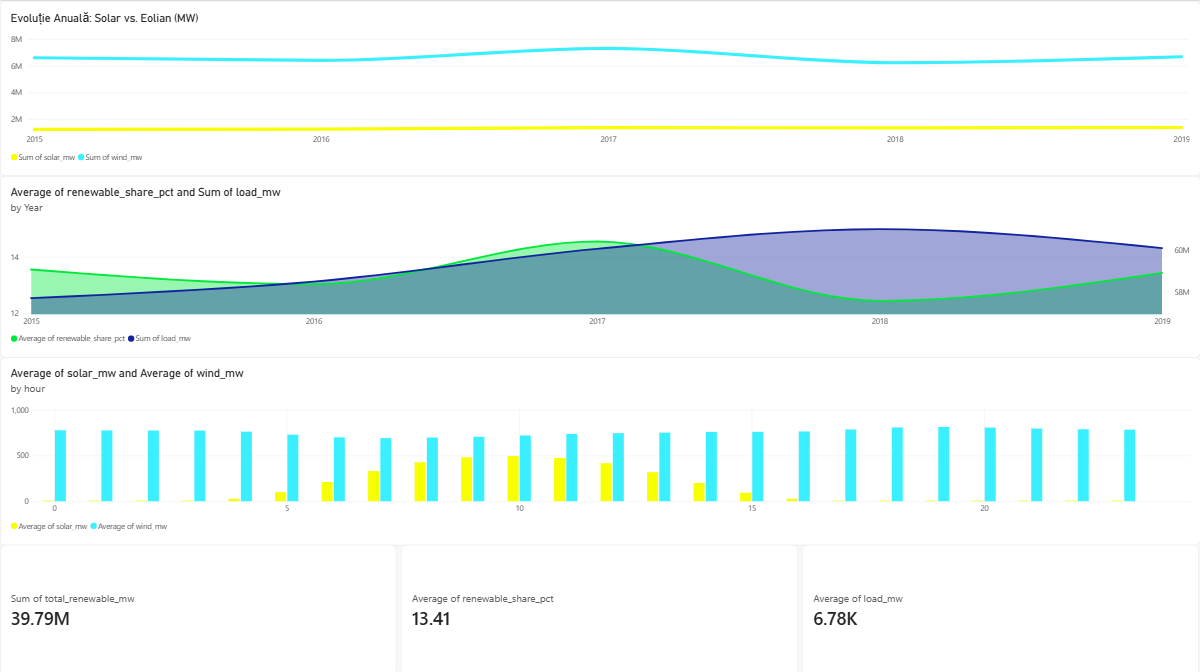

The dashboard page shown, as its layout file describes it:
{"tool":"powerbi","page":{"name":"Page 1","canvas":[1920,1080],"ordinal":0},"visuals":[{"type":"lineChart","title":"Evoluție Anuală: Solar vs. Eolian (MW)","fields":{"Category":["greengrid dim_time.timestamp_utc.Variation.Date Hierarchy.Year","greengrid dim_time.timestamp_utc.Variation.Date Hierarchy.Quarter","greengrid dim_time.timestamp_utc.Variation.Date Hierarchy.Month","greengrid dim_time.timestamp_utc.Variation.Date Hierarchy.Day"],"Y":["Sum(greengrid fact_renewable_generation.solar_mw)","Sum(greengrid fact_renewable_generation.wind_mw)"]},"box":[0,0,1920.4,280.2],"z":0},{"type":"areaChart","fields":{"Category":["greengrid dim_time.timestamp_utc.Variation.Date Hierarchy.Year","greengrid dim_time.timestamp_utc.Variation.Date Hierarchy.Quarter","greengrid dim_time.timestamp_utc.Variation.Date Hierarchy.Month","greengrid dim_time.timestamp_utc.Variation.Date Hierarchy.Day"],"Y":["Avg(greengrid fact_renewable_generation.renewable_share_pct)"],"Y2":["Sum(greengrid fact_renewable_generation.load_mw)"]},"box":[0,280.2,1920.4,290.4],"z":1000},{"type":"clusteredColumnChart","fields":{"Category":["greengrid dim_time.hour"],"Y":["Avg(greengrid fact_renewable_generation.solar_mw)","Avg(greengrid fact_renewable_generation.wind_mw)"]},"box":[0,570.2,1920.4,300.5],"z":2000},{"type":"cardVisual","fields":{"Data":["Sum(greengrid fact_renewable_generation.total_renewable_mw)","Avg(greengrid fact_renewable_generation.renewable_share_pct)","Avg(greengrid fact_renewable_generation.load_mw)"]},"box":[0,870.7,1920.4,209.9],"z":2001}]}

Visuals, with their boxes in screenshot pixels (x1, y1, x2, y2), scaled from the page's 1920x1080 canvas onto the 1200x672 screenshot:
"Evoluție Anuală: Solar vs. Eolian (MW)" lineChart: region(0, 0, 1199, 174)
areaChart - greengrid dim_time.timestamp_utc.Variation.Date Hierarchy.Year x greengrid dim_time.timestamp_utc.Variation.Date Hierarchy.Quarter: region(0, 174, 1199, 355)
clusteredColumnChart - greengrid dim_time.hour x Avg(greengrid fact_renewable_generation.solar_mw): region(0, 355, 1199, 542)
cardVisual - Sum(greengrid fact_renewable_generation.total_renewable_mw) x Avg(greengrid fact_renewable_generation.renewable_share_pct): region(0, 542, 1199, 671)
